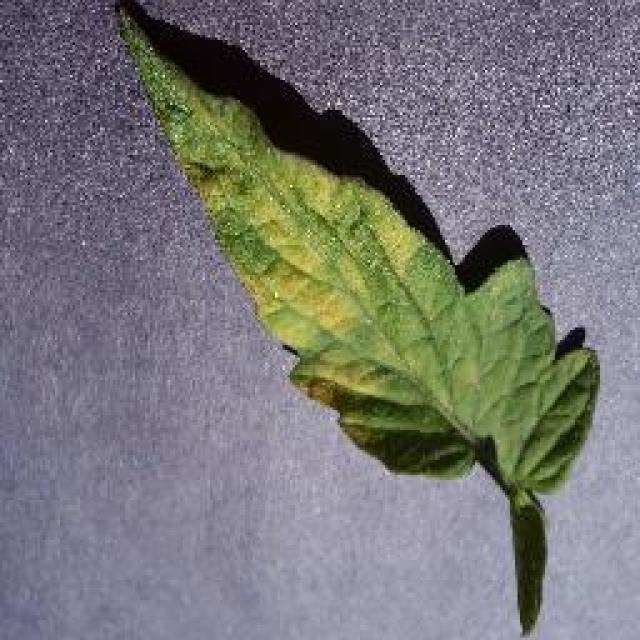Tomato mold leaf: (120, 0, 602, 498)
